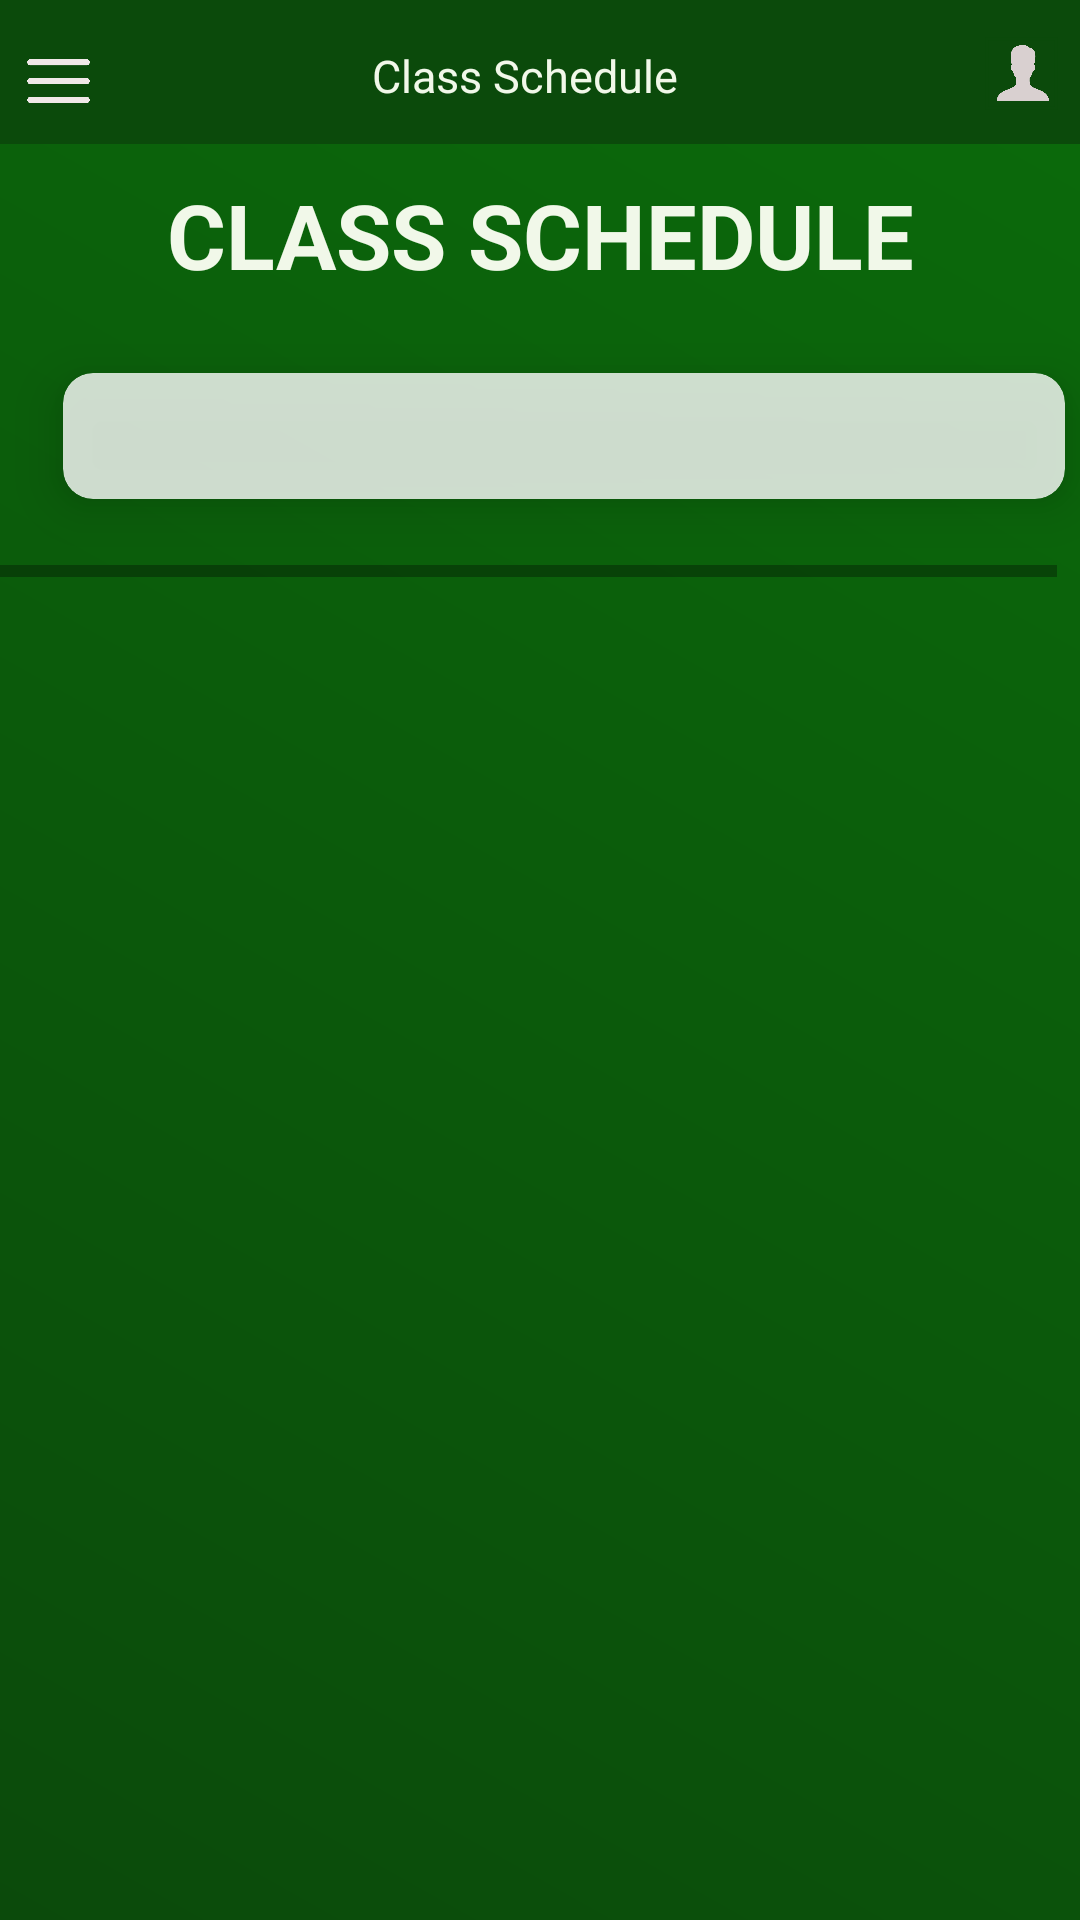

Named icons in this screenshot (1080w x 1920h) and their bounding boxes, bbox(x1, y1, x2, y2):
hamburger menu: bbox(27, 59, 90, 103)
profile: bbox(997, 45, 1049, 101)
